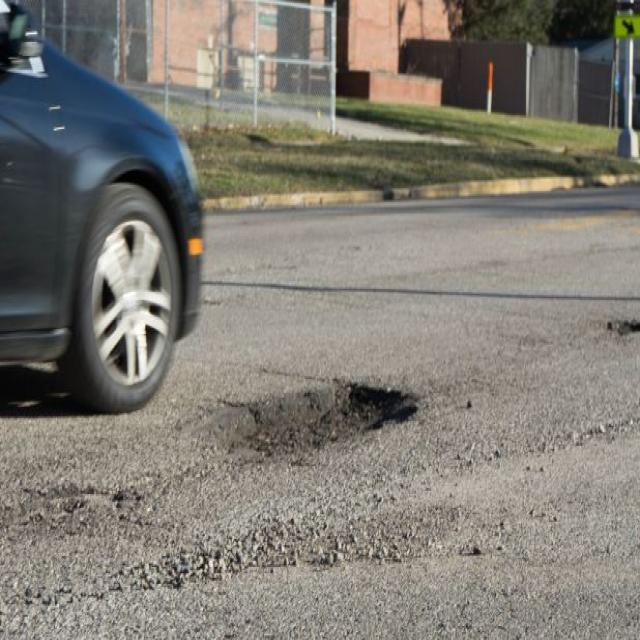pothole: (195, 368, 422, 469)
